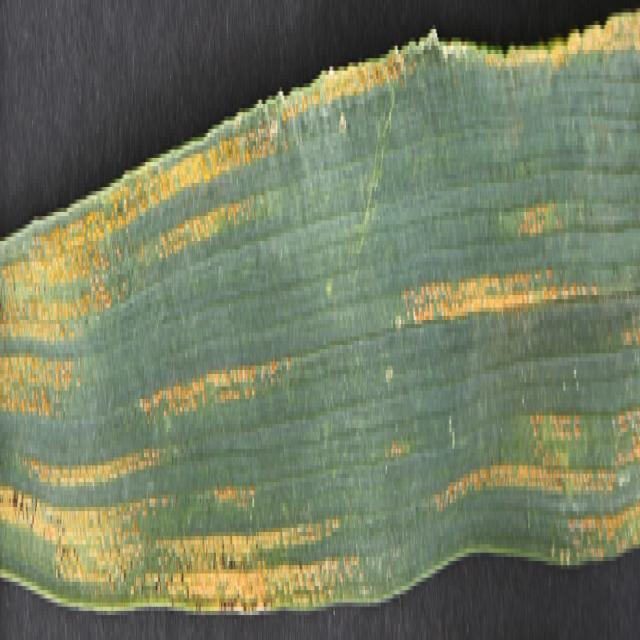leaf rust: (2, 253, 365, 594), (409, 212, 640, 544), (114, 37, 403, 266)
